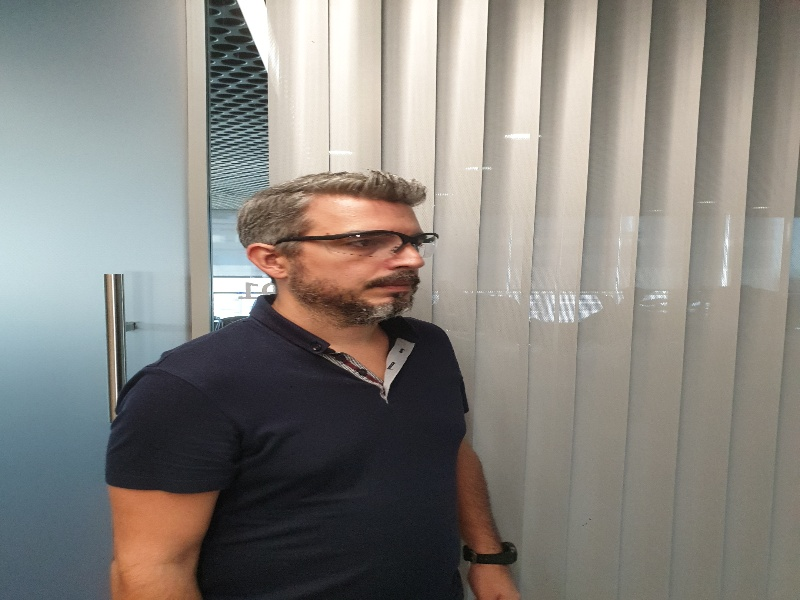Gozluk: (273, 230, 439, 259)
